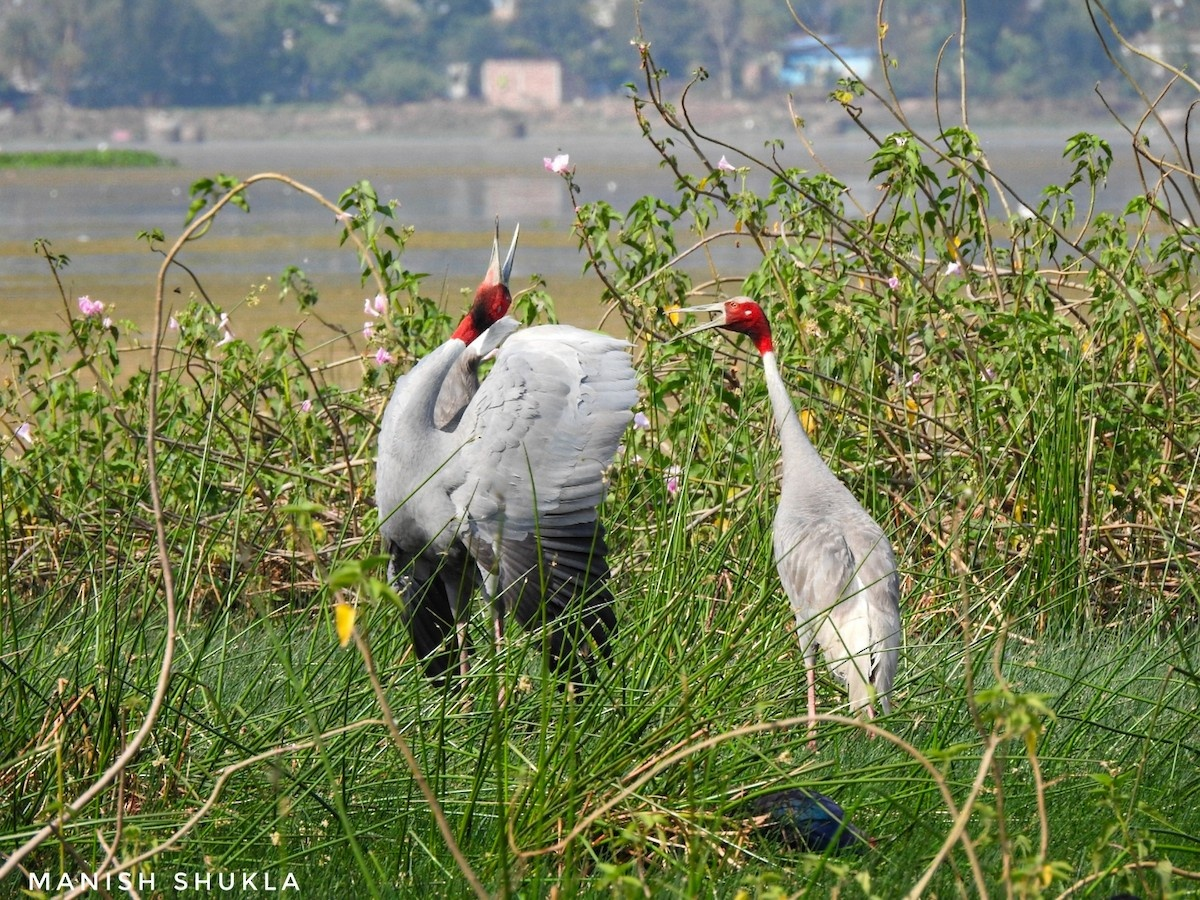crane: (663, 280, 917, 756), (395, 201, 629, 683)
